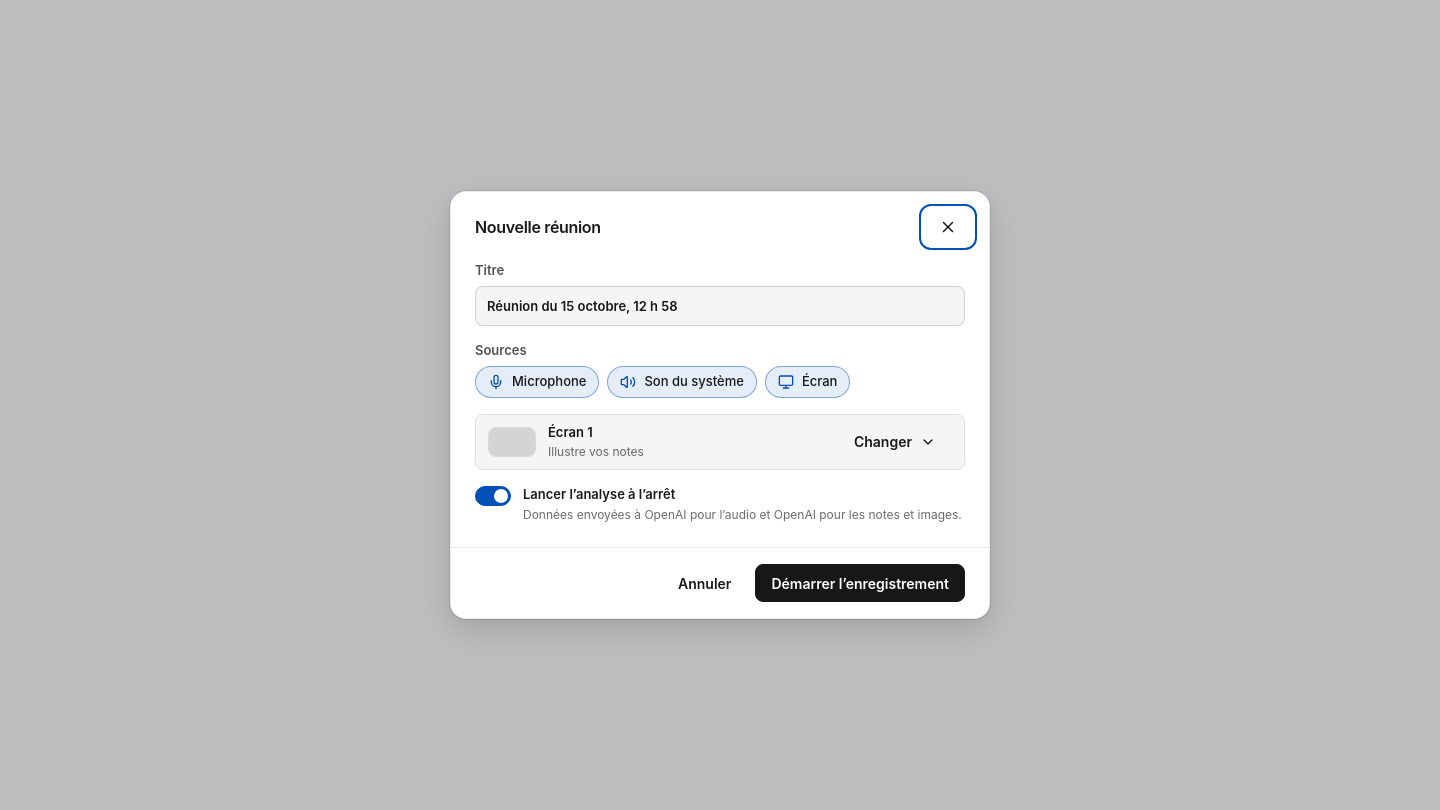
Scenario: greys the start and warns when no sound source is left
Check: the switch is shown, box x1=475 y1=486 x2=965 y2=523
Click the button "Microphone": (537, 382) x1=475 y1=366 x2=600 y2=398
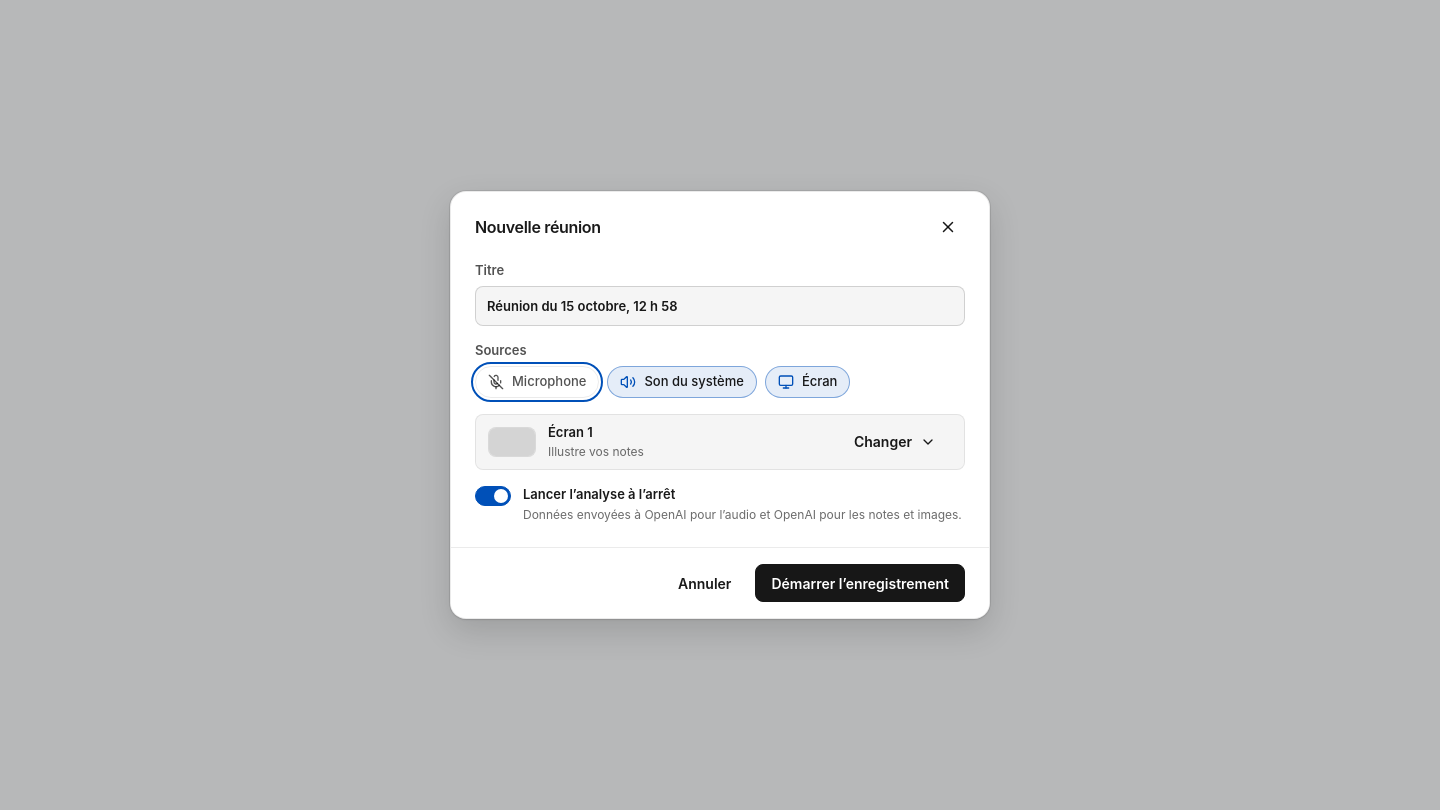
Click the button "Son du système": (682, 382) x1=608 y1=366 x2=757 y2=398
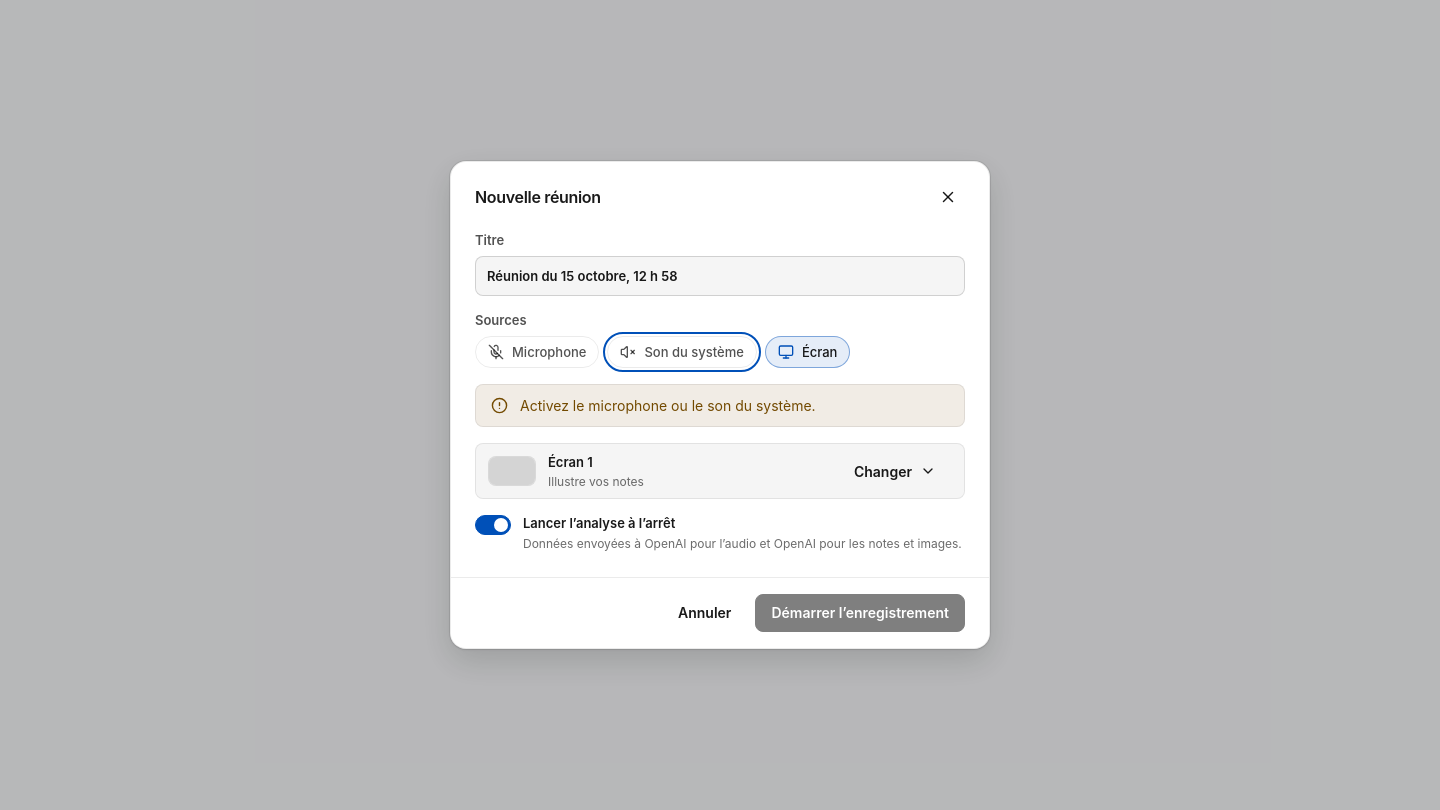
Check: the button "Démarrer l’enregistrement" is disabled, box x1=755 y1=594 x2=965 y2=632
Check: the message reads "Activez le microphone ou le son du système.", box x1=520 y1=397 x2=816 y2=414
